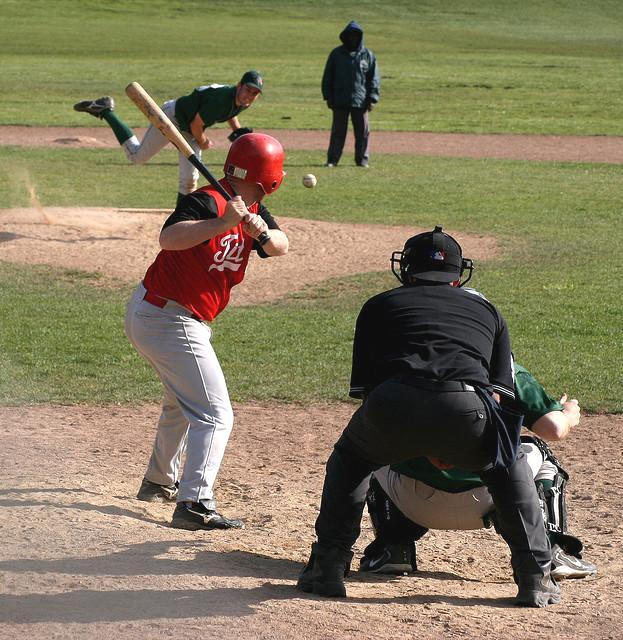ball: (301, 172, 317, 190)
bat: (122, 79, 236, 203)
